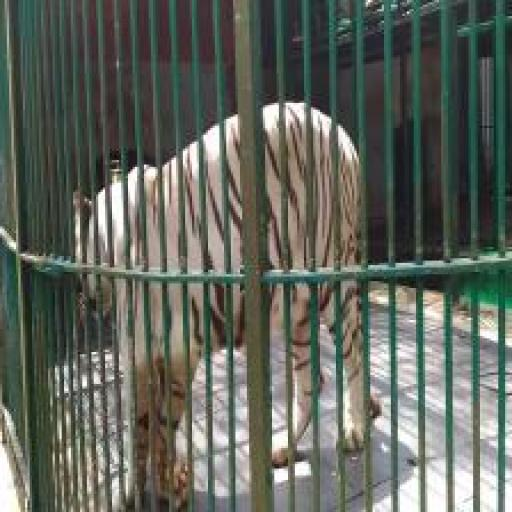Tiger: (46, 55, 406, 512)
